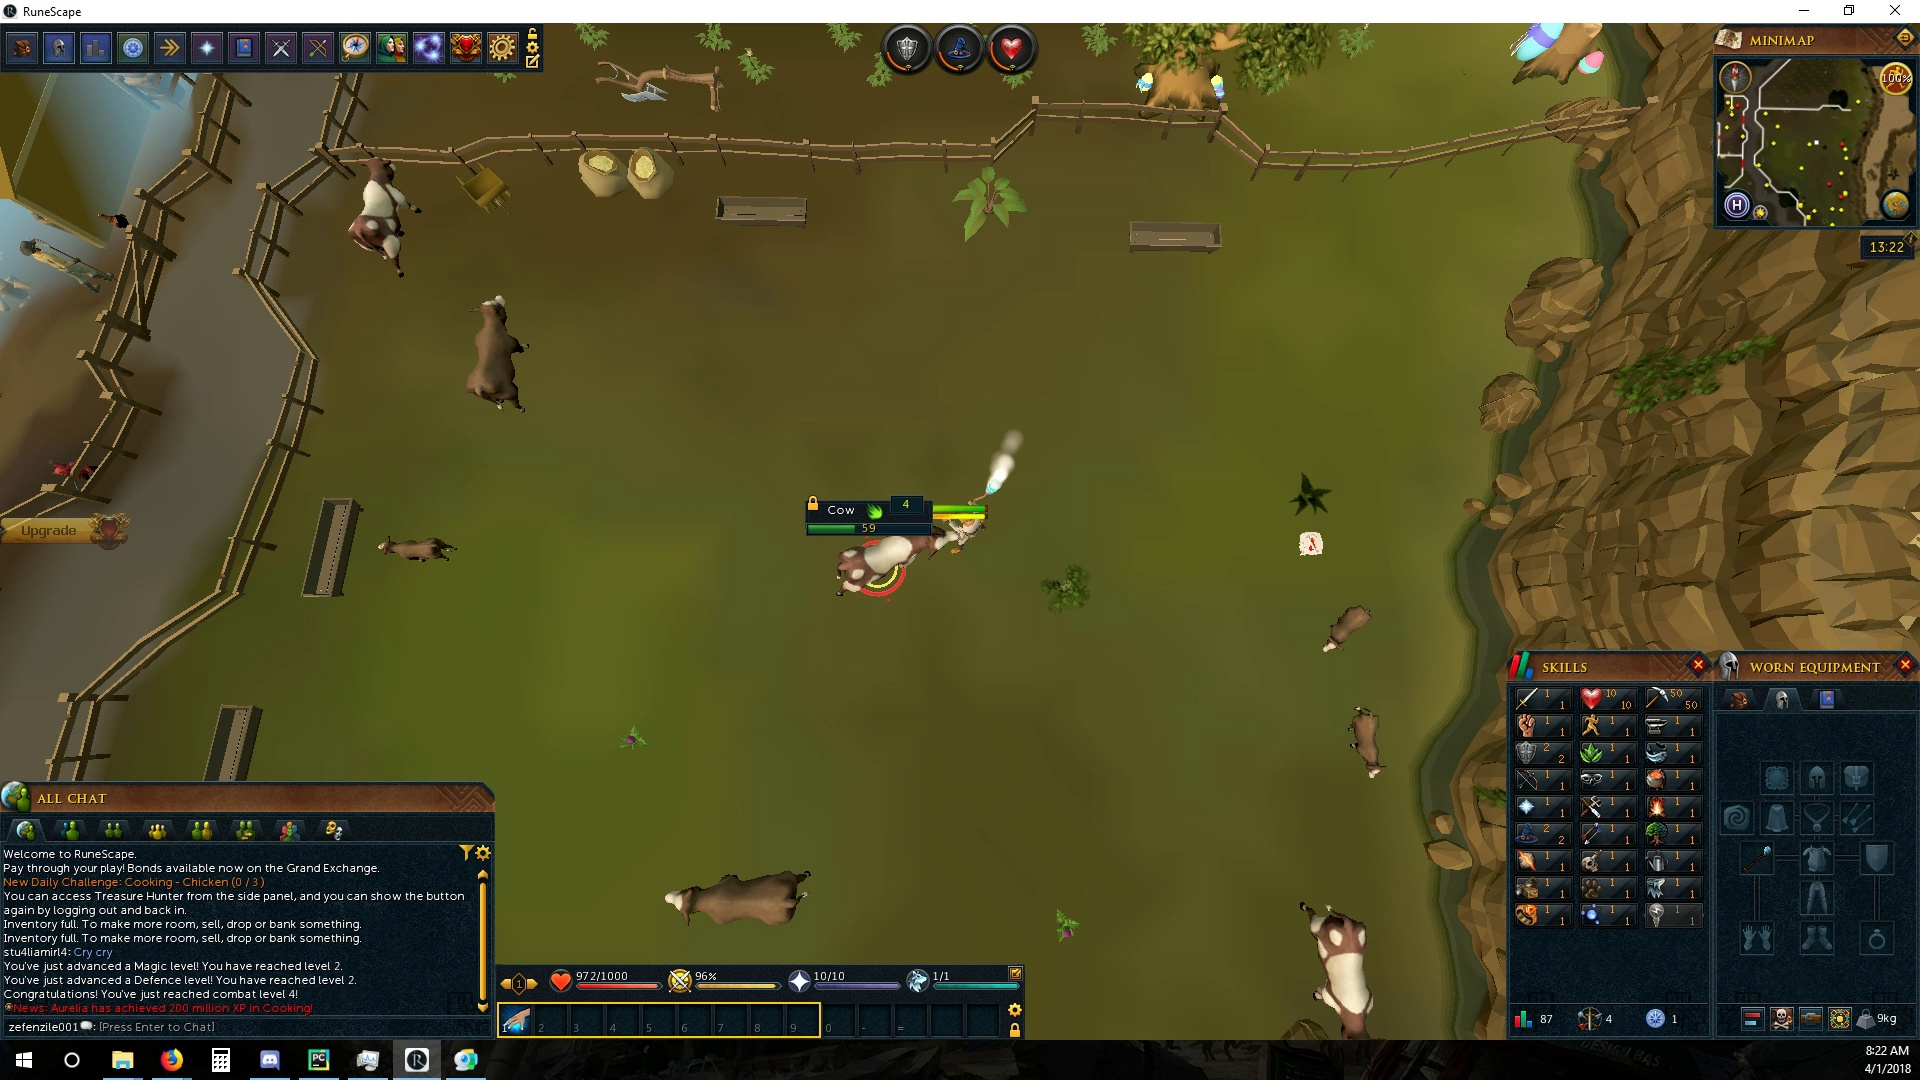calf: (1349, 702, 1386, 782), (1321, 603, 1373, 655), (373, 535, 458, 566)
cow: (1294, 889, 1379, 1038), (343, 152, 423, 282), (659, 865, 815, 926), (464, 290, 533, 417), (831, 531, 949, 600)
cow_drop: (1291, 527, 1328, 560)
